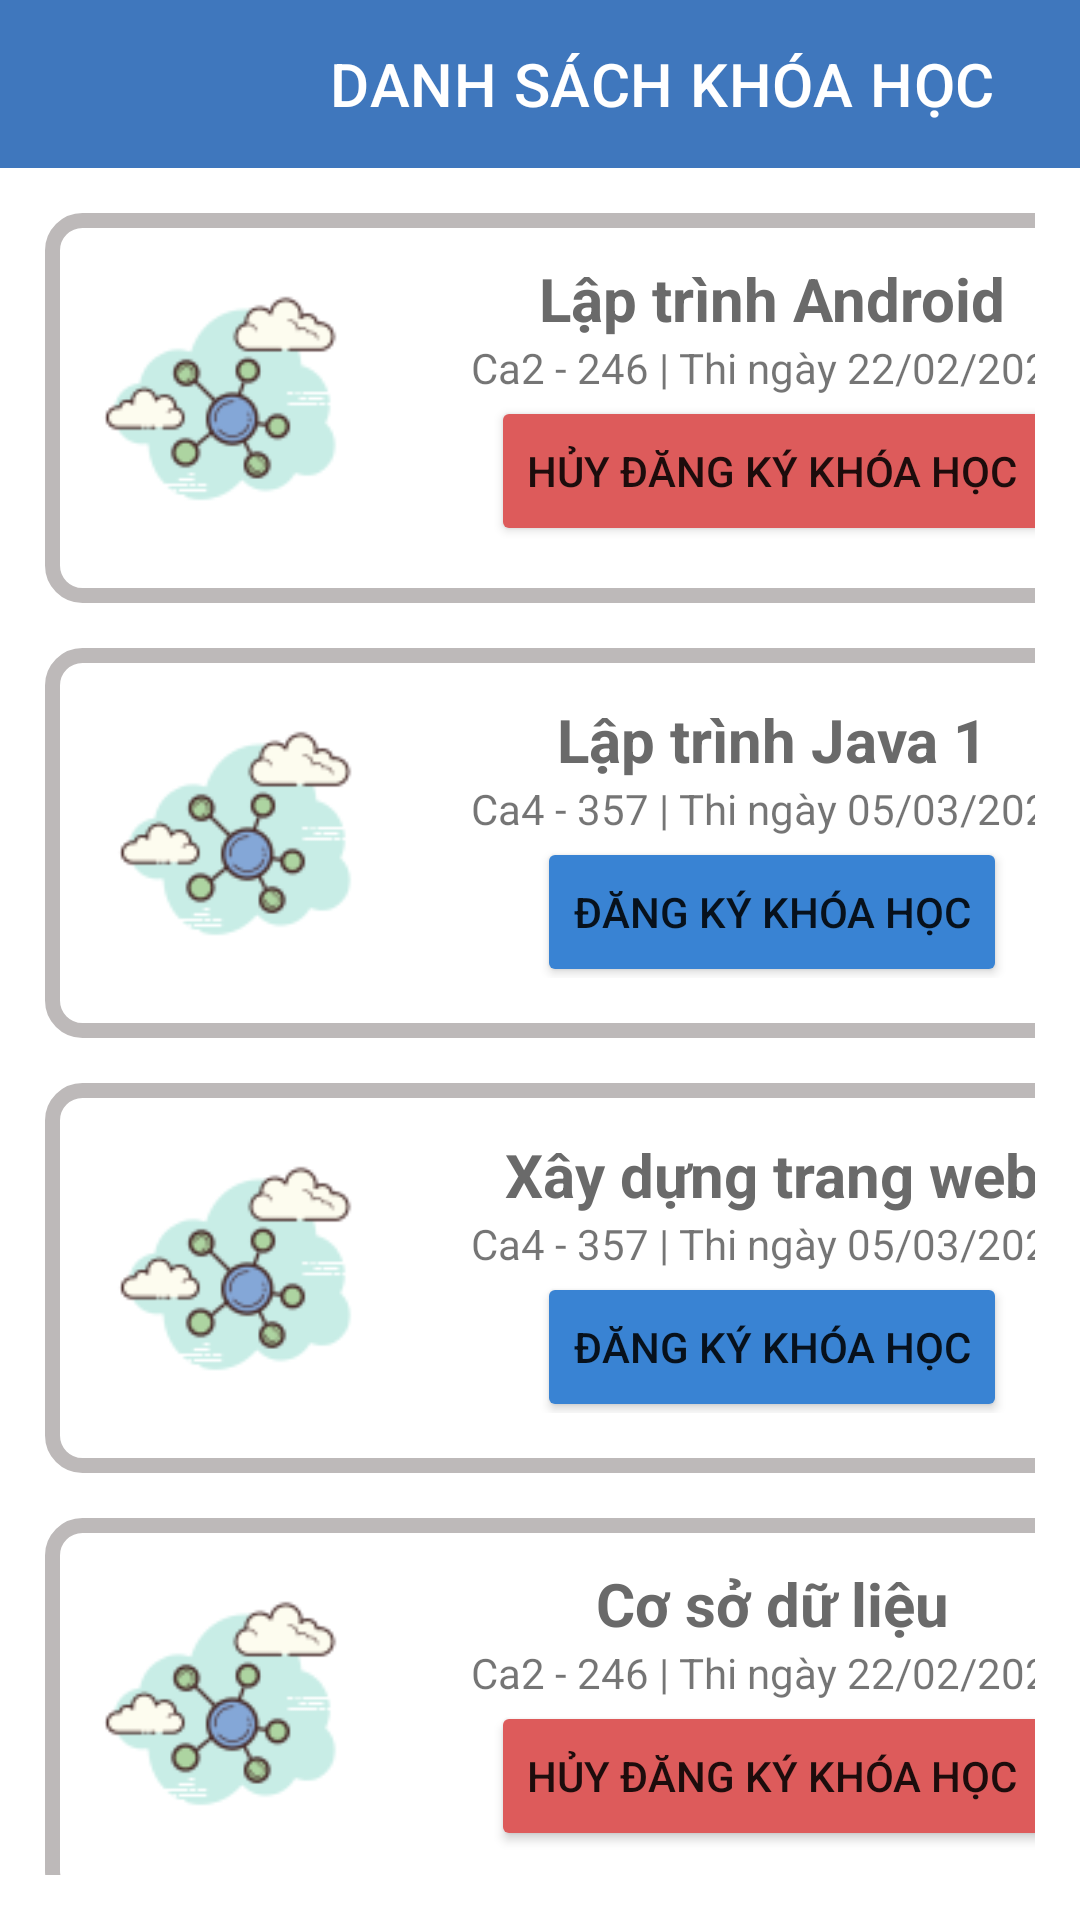

Screen size 1080w x 1920h. Icon name, then its box in pixels as (x1, y1, x2, y2):
neural: (105, 296, 336, 500), (120, 731, 351, 935), (120, 1166, 351, 1370), (105, 1601, 336, 1805)
